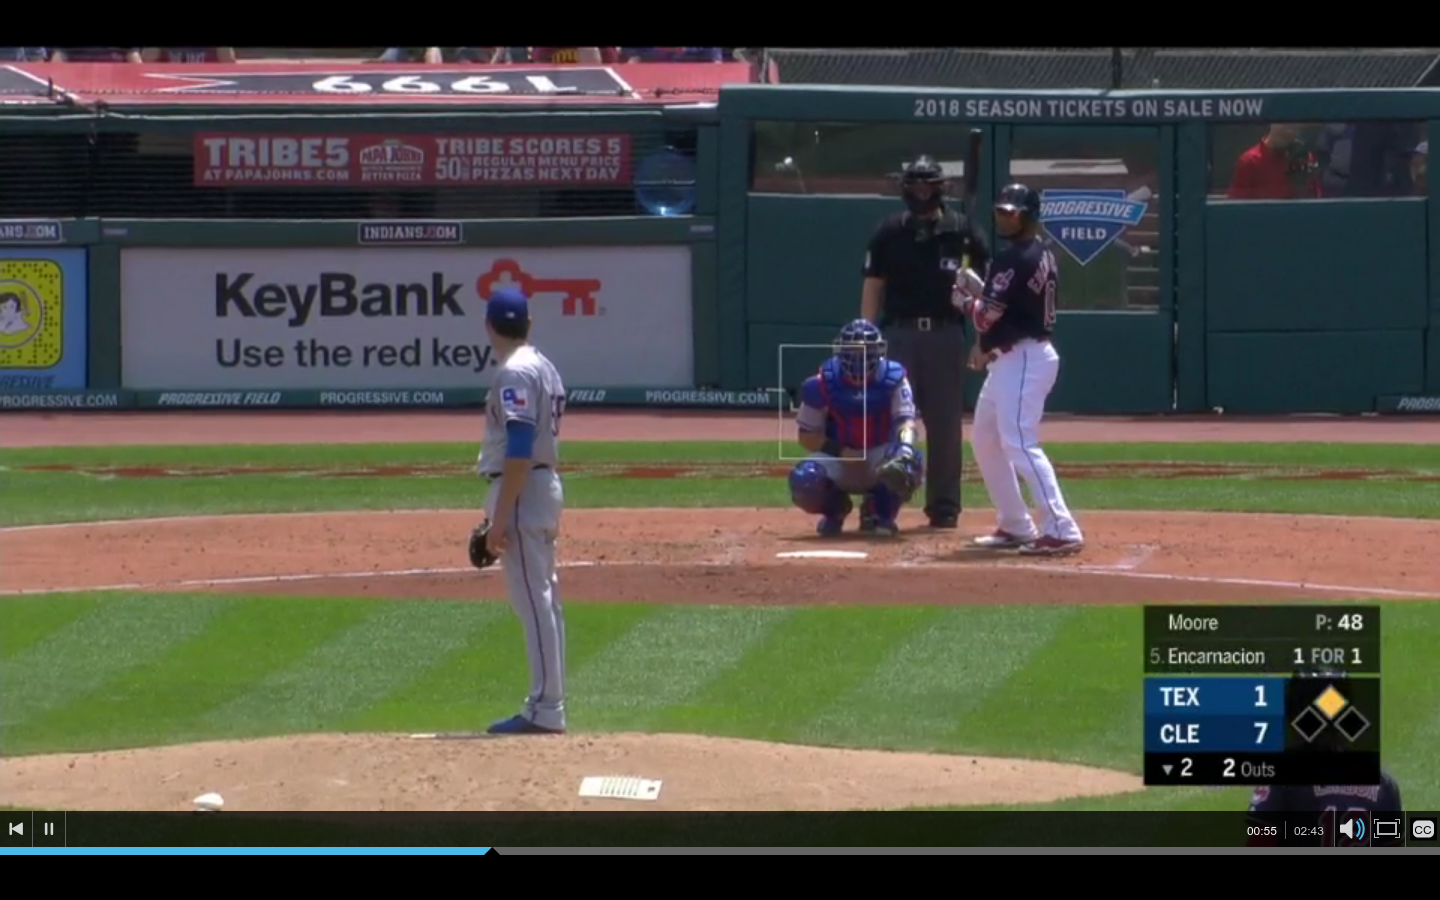baseball bat: (953, 120, 984, 312)
baseball player: (467, 289, 581, 742), (953, 186, 1092, 556), (776, 319, 932, 548)
referee: (856, 157, 976, 528)
